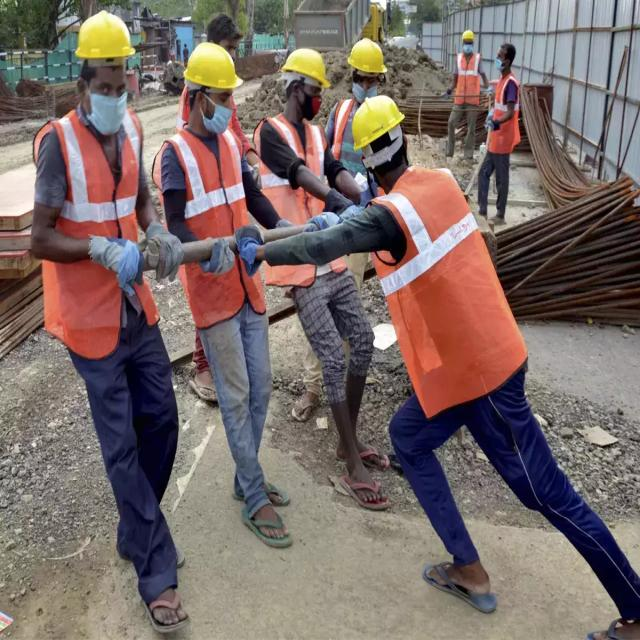Gloves: (85, 224, 182, 290), (191, 224, 269, 284), (298, 203, 359, 238)
Hard Hat: (72, 3, 142, 62), (350, 94, 408, 158), (180, 42, 247, 94), (276, 46, 336, 94), (345, 36, 389, 76), (460, 28, 477, 42)
Reflective Vest: (360, 158, 541, 422), (34, 106, 148, 364), (149, 121, 270, 321), (250, 114, 352, 286), (485, 74, 523, 158), (452, 48, 484, 104), (333, 94, 357, 168)
